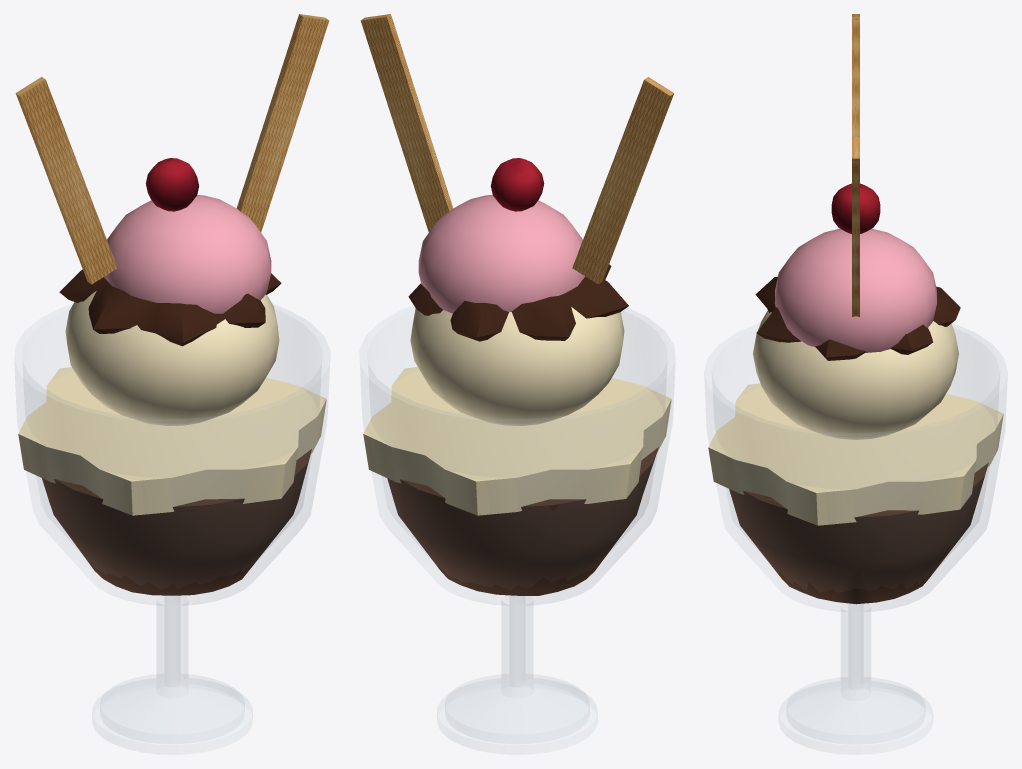
File: dessert_sundae_glass.glb
3 renders of one model, left to right at view 1: azimuth 30°, elevation 25°; view 2: azimuth 150°, elevation 25°; view 3: azimuth 270°, elevation 25°, orthographic. The views are drawn at different scales.
Visible parts, largest first — view 1: dessert_sundae_glass; view 2: dessert_sundae_glass; view 3: dessert_sundae_glass.
Part boxes in pixels (bbox=[...]): dessert_sundae_glass: bbox=[15, 14, 329, 754]; dessert_sundae_glass: bbox=[360, 14, 674, 754]; dessert_sundae_glass: bbox=[704, 14, 1007, 754].
Size of the model in its own units: 0.133 by 0.2766 by 0.118.
7 materials, 2 textured.
